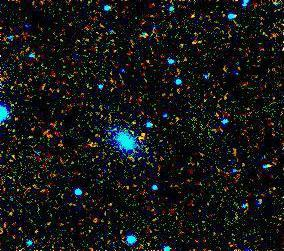star: (125, 122, 155, 152)
